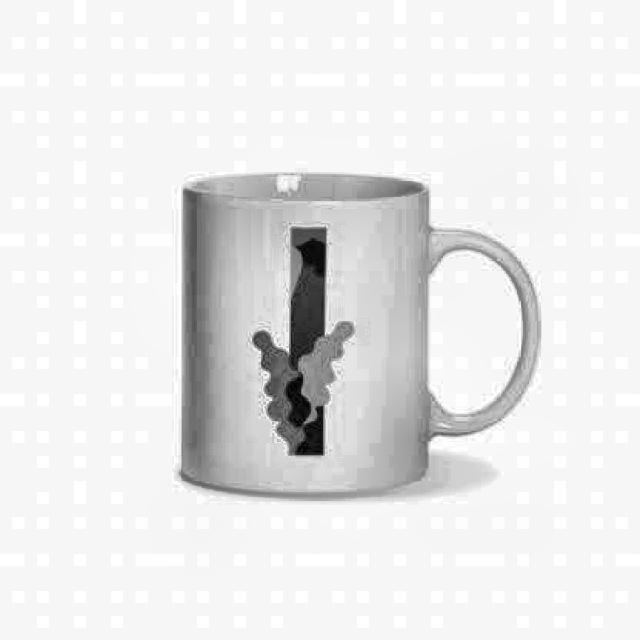Mug: (178, 174, 542, 500)
